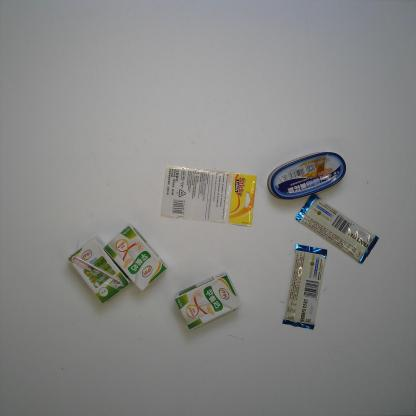Canned Food: (266, 150, 347, 200)
Chocolate: (294, 192, 380, 266), (282, 243, 328, 331)
Milk: (66, 235, 131, 306), (103, 223, 169, 292), (174, 270, 244, 332)
Stationery: (160, 164, 258, 227)
